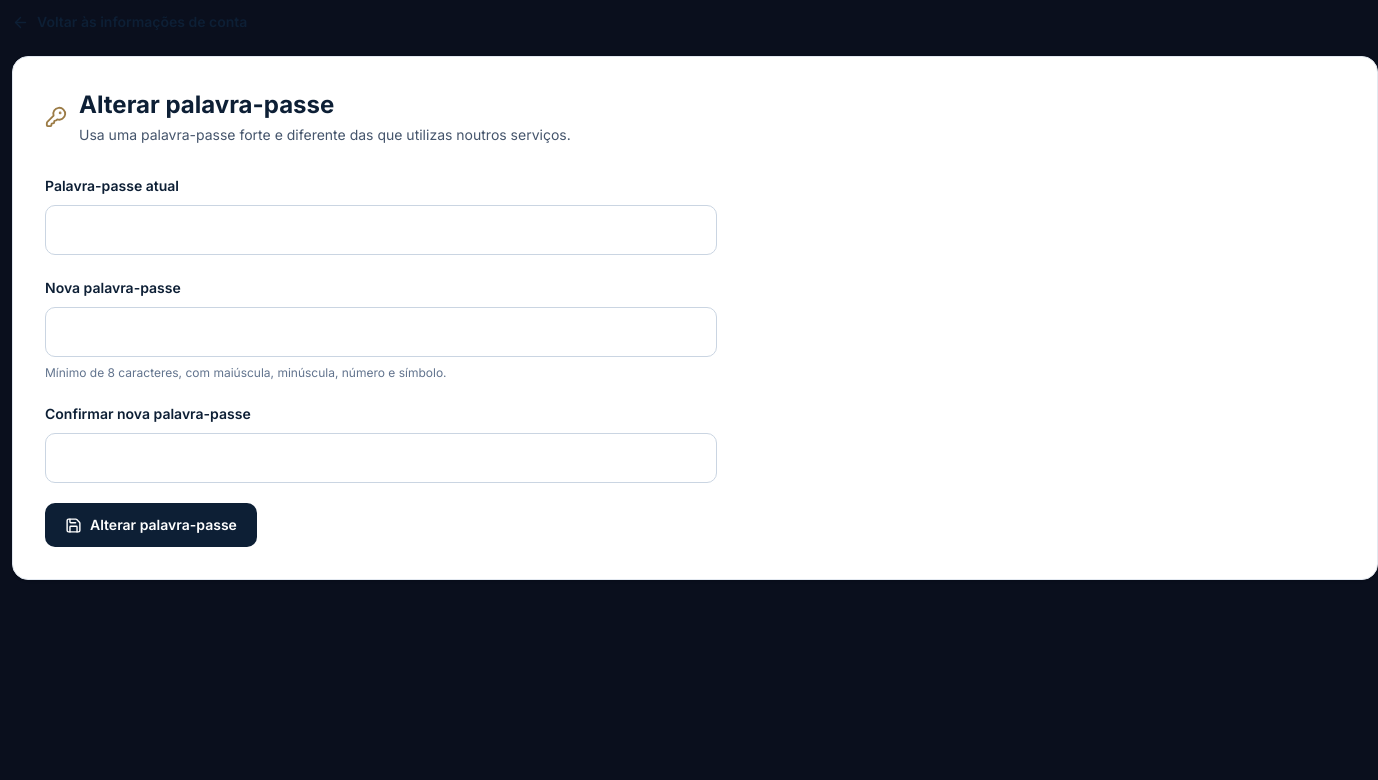
Test: Alteração de palavra-passe › impede o envio de campos vazios
The image size is (1378, 780).
Click the button "Alterar palavra-passe" at (151, 525), box [45,503,257,547]
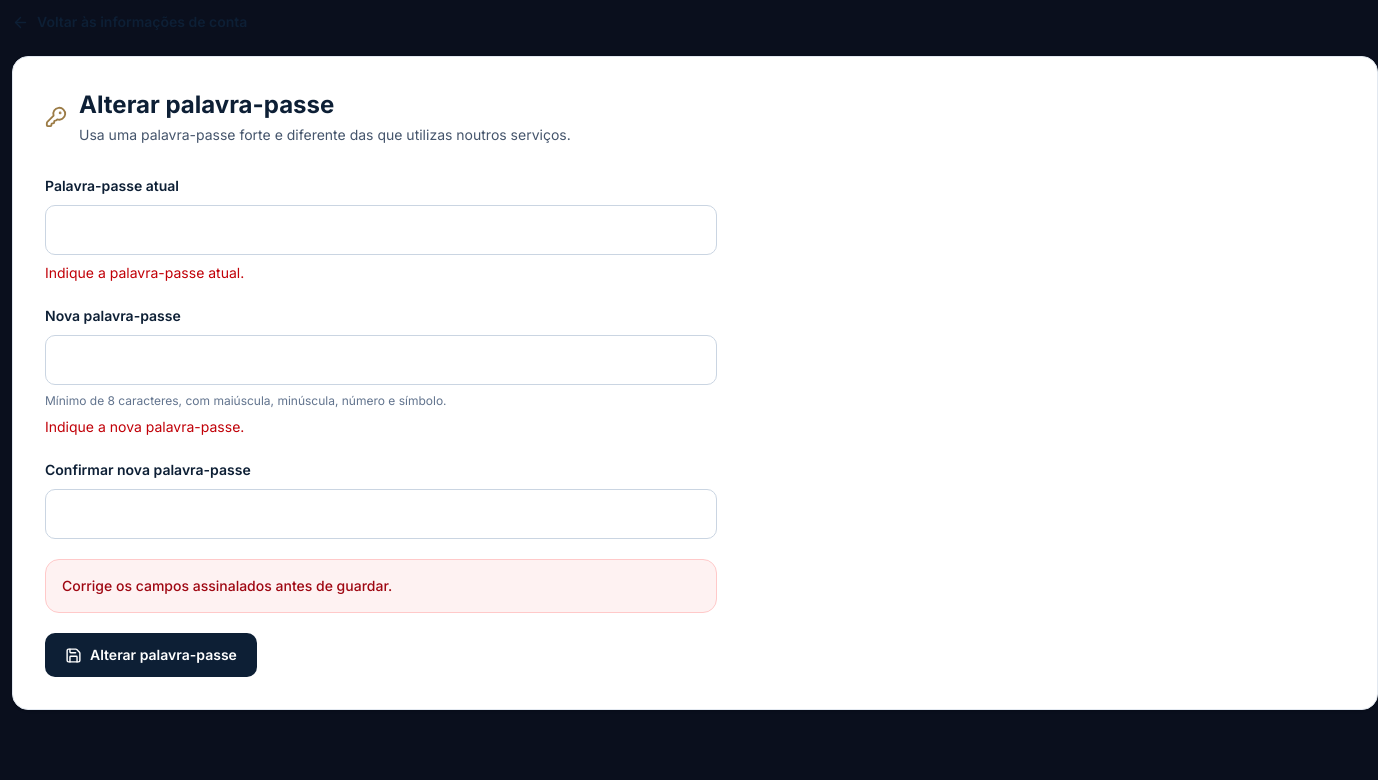
Expected: the text "Indique a palavra-passe atual." is shown, [45,264,244,281]
Expected: the text "Indique a nova palavra-passe." is shown, [45,418,244,435]
